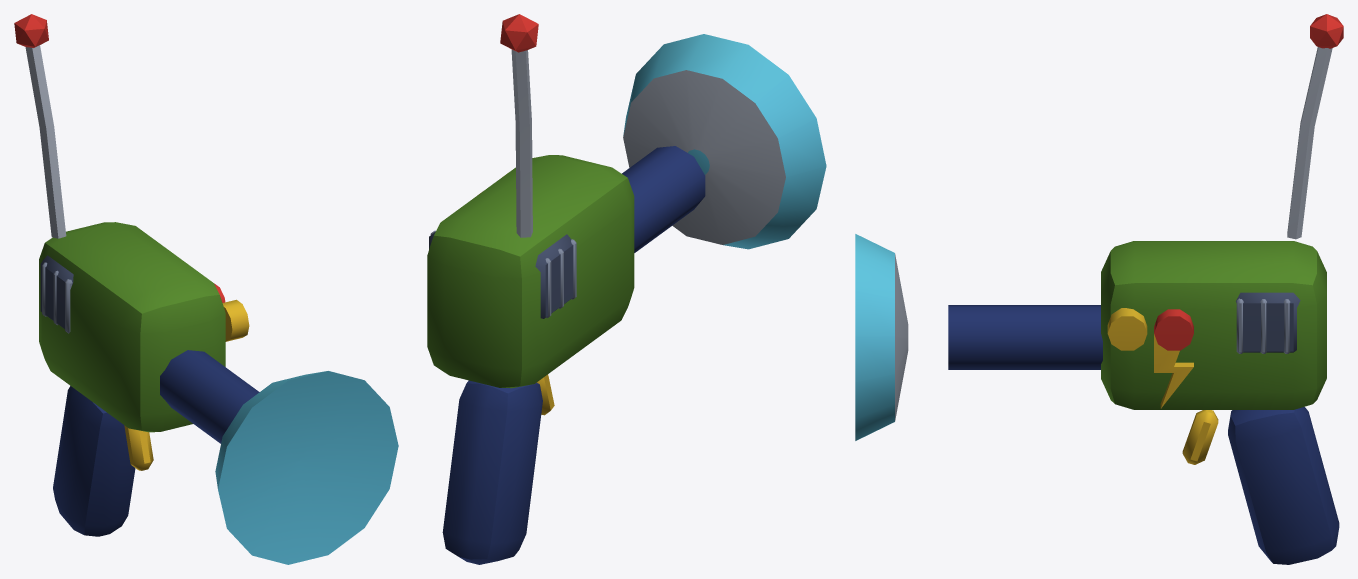
The model's file is w_j_tesla.glb.
3 renders of one model, left to right at view 1: azimuth 30°, elevation 25°; view 2: azimuth 150°, elevation 25°; view 3: azimuth 270°, elevation 25°, orthographic. The views are drawn at different scales.
Parts seen in each view (by area): view 1: body; view 2: body; view 3: body.
Part boxes in pixels (bbox=[...]): body: bbox=[14, 14, 398, 564]; body: bbox=[427, 14, 826, 564]; body: bbox=[855, 14, 1343, 564].
Size of the model in its own units: 0.256 by 0.6971 by 0.5884.
